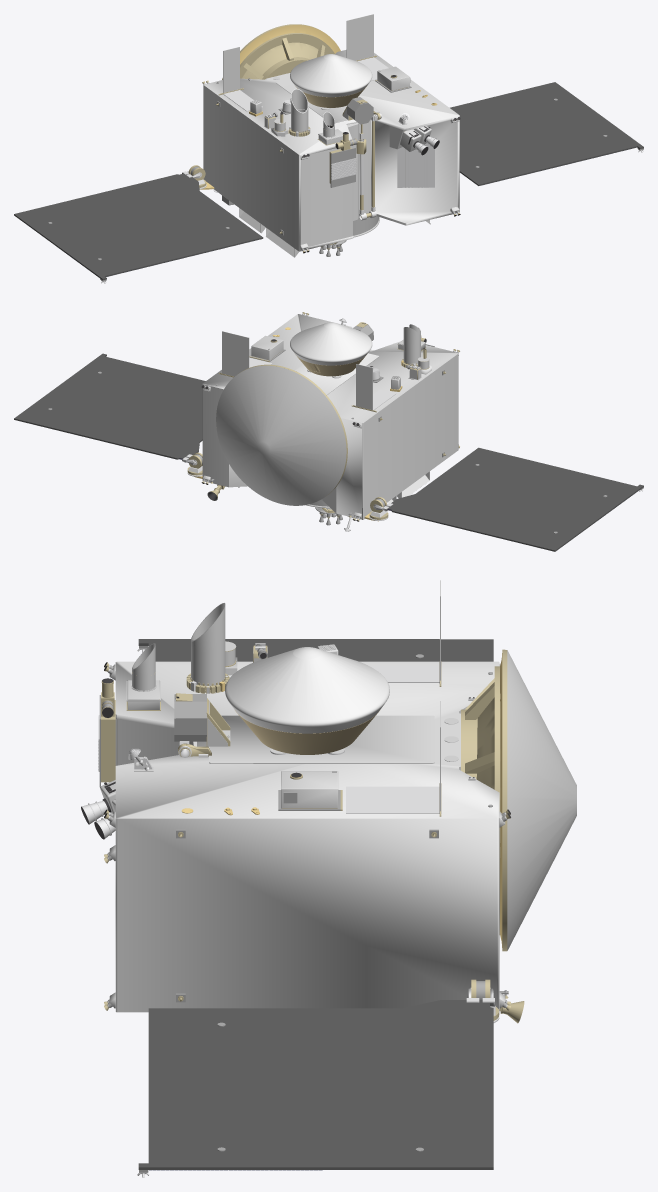
The model's file is osirisrex_lod0.glb.
The picture shows the model from 3 angles, top to bottom: view 1: azimuth 30°, elevation 25°; view 2: azimuth 150°, elevation 25°; view 3: azimuth 270°, elevation 25°; orthographic projection. The views are drawn at different scales.
Visible parts, largest first — view 1: osirisrex_lod0; view 2: osirisrex_lod0; view 3: osirisrex_lod0.
Part boxes in pixels (x1,y1,x2,y2): osirisrex_lod0: (14,14,643,283); osirisrex_lod0: (14,312,643,551); osirisrex_lod0: (81,580,576,1177).
Bounding box in the file's own units: 8.31 × 2.88 × 3.29.
